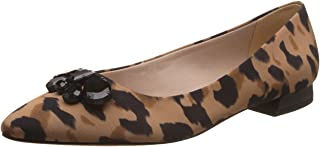shoes: (1, 1, 320, 147)
